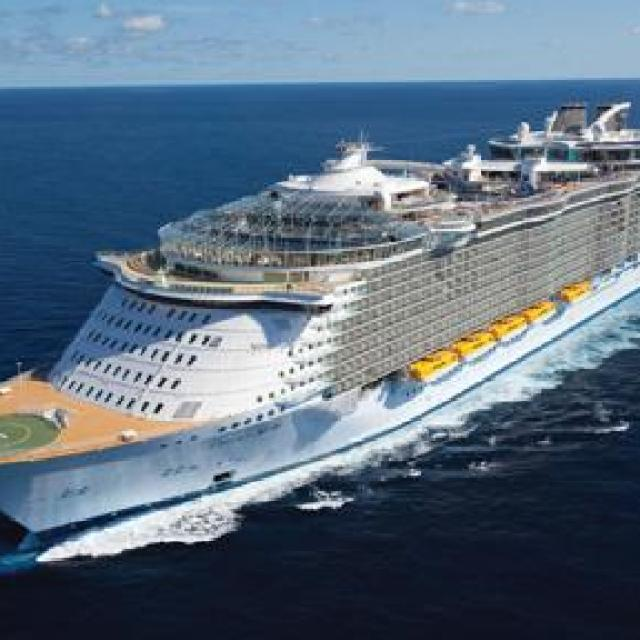passenger ship: (0, 100, 640, 531)
